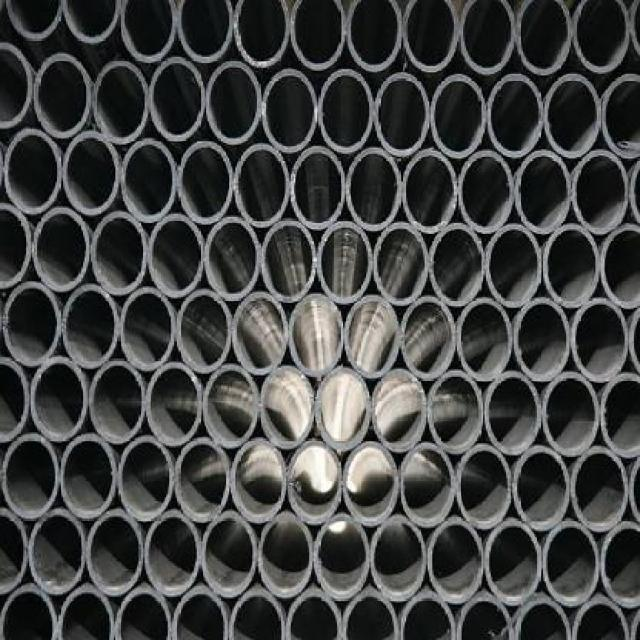pipe: (2, 434, 60, 520), (3, 282, 62, 366), (5, 129, 62, 215), (31, 356, 88, 442), (88, 509, 144, 596), (543, 519, 599, 606), (29, 509, 86, 594), (572, 446, 628, 532), (371, 514, 427, 600), (486, 519, 542, 605), (59, 434, 116, 518), (117, 435, 173, 520), (400, 443, 456, 528), (514, 445, 570, 530), (428, 517, 484, 602), (33, 208, 90, 291), (89, 360, 146, 443), (313, 516, 370, 599), (145, 510, 200, 596), (543, 223, 599, 307), (62, 285, 118, 369), (485, 371, 541, 455), (542, 372, 598, 456), (545, 74, 601, 158), (231, 439, 286, 524), (122, 138, 179, 220), (458, 151, 514, 234), (572, 151, 628, 234), (486, 225, 542, 308), (120, 288, 176, 371), (176, 291, 232, 374), (146, 363, 202, 446), (202, 511, 256, 597), (63, 131, 118, 215), (149, 216, 204, 300), (429, 223, 484, 307), (343, 442, 398, 526), (35, 54, 90, 138), (514, 298, 570, 380), (573, 300, 629, 382), (94, 60, 150, 142), (174, 439, 228, 524), (457, 445, 511, 530), (320, 69, 374, 154), (179, 141, 234, 224), (235, 145, 290, 228), (403, 151, 458, 234), (515, 151, 570, 234), (346, 295, 401, 378), (457, 299, 512, 382), (149, 57, 204, 140), (374, 74, 429, 157), (262, 219, 316, 303), (428, 369, 482, 453), (288, 440, 342, 524), (208, 60, 262, 144), (291, 146, 346, 228), (317, 220, 372, 302), (289, 294, 344, 376), (315, 368, 370, 450), (232, 293, 286, 376), (402, 297, 456, 380), (260, 366, 314, 449), (372, 369, 426, 452), (259, 514, 313, 597), (346, 149, 401, 230), (374, 223, 429, 304), (203, 366, 258, 447), (489, 76, 544, 157), (93, 211, 146, 294), (206, 217, 259, 300), (432, 76, 486, 157), (516, 0, 572, 75), (402, 1, 458, 74), (572, 0, 628, 72), (460, 0, 514, 74), (291, 0, 346, 70), (346, 0, 401, 70), (234, 0, 290, 68), (120, 0, 177, 63), (600, 223, 640, 309), (600, 373, 640, 459), (178, 0, 233, 62), (600, 522, 638, 610), (602, 72, 639, 160), (0, 584, 56, 640), (57, 583, 114, 638), (114, 586, 172, 638), (342, 589, 400, 638), (172, 588, 228, 638), (229, 588, 284, 638), (285, 589, 341, 638), (0, 43, 32, 128), (0, 203, 31, 288), (400, 593, 457, 639), (457, 592, 513, 638), (573, 596, 630, 640), (62, 0, 120, 43), (0, 357, 29, 442), (516, 597, 572, 638), (0, 509, 27, 594), (6, 0, 62, 40)
